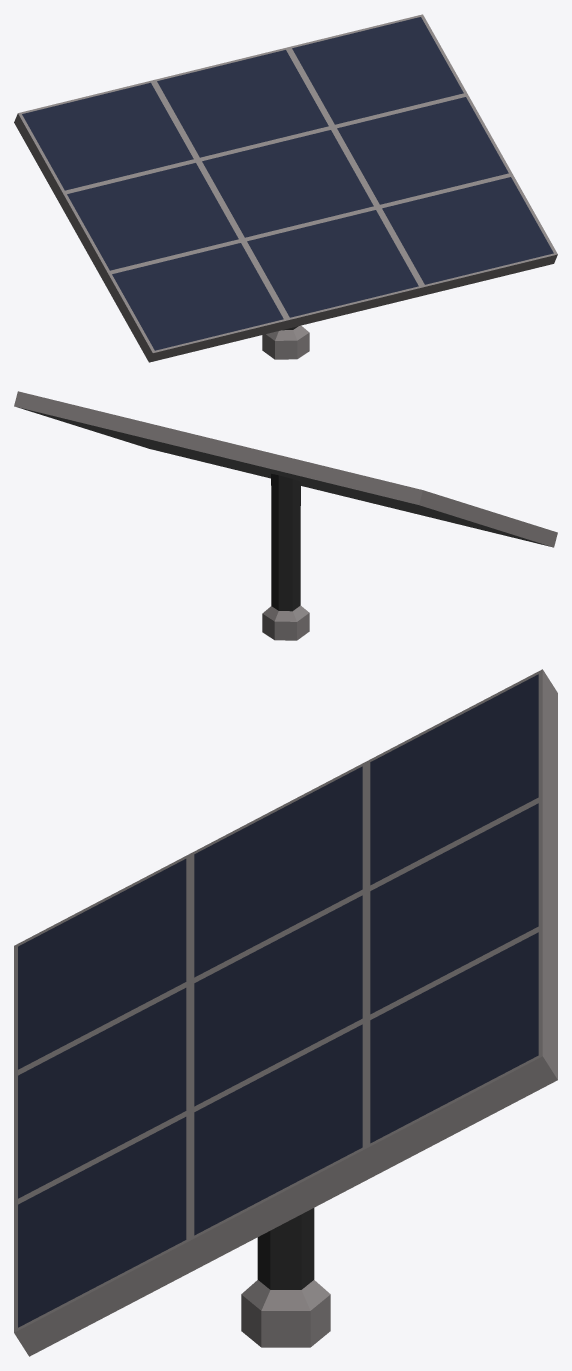
Rendered from solar-panel.glb.
The picture shows the model from 3 angles, top to bottom: view 1: azimuth 30°, elevation 25°; view 2: azimuth 150°, elevation 25°; view 3: azimuth 270°, elevation 25°; orthographic projection. The views are drawn at different scales.
Visible parts, largest first — view 1: solar-panel; view 2: solar-panel; view 3: solar-panel.
Boxes of the visible parts, <box> form: solar-panel: <box>14,14,557,362</box>; solar-panel: <box>14,391,557,640</box>; solar-panel: <box>14,669,557,1356</box>.
Size of the model in its own units: 3 by 1.69 by 1.78.
1 material, 1 textured.
